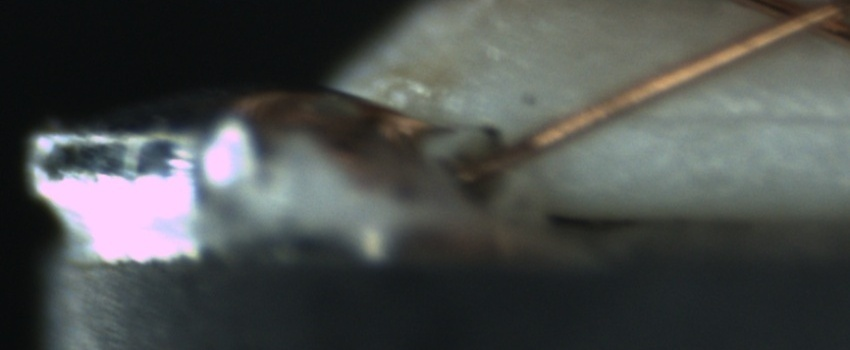CL: (751, 1, 840, 45)
DL: (614, 80, 850, 148)
